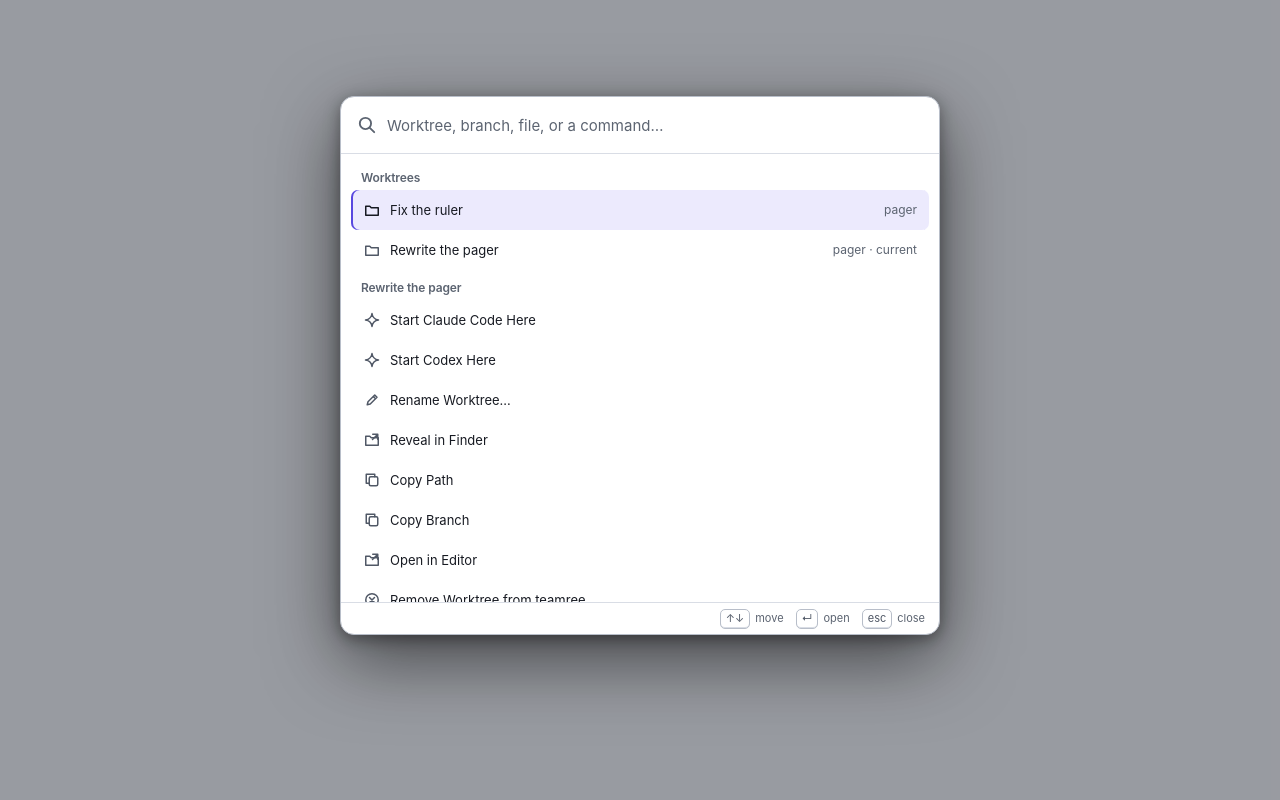
it: the first screen › heads a typed query’s rows by kind, the best match first
The image size is (1280, 800).
Type "copy" into the field at (655, 125), box x1=387 y1=101 x2=923 y2=149
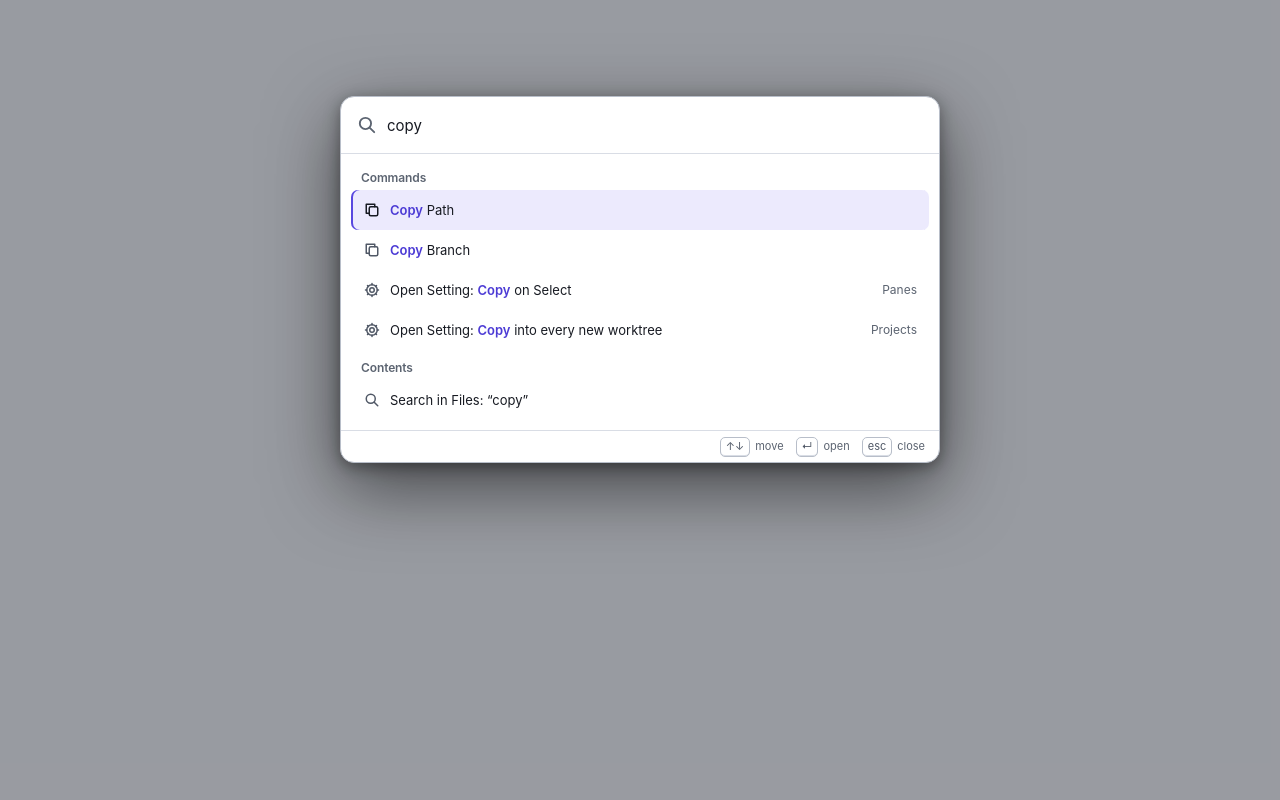
Replace the text in the field with "ruler" at (655, 125), box x1=387 y1=101 x2=923 y2=149
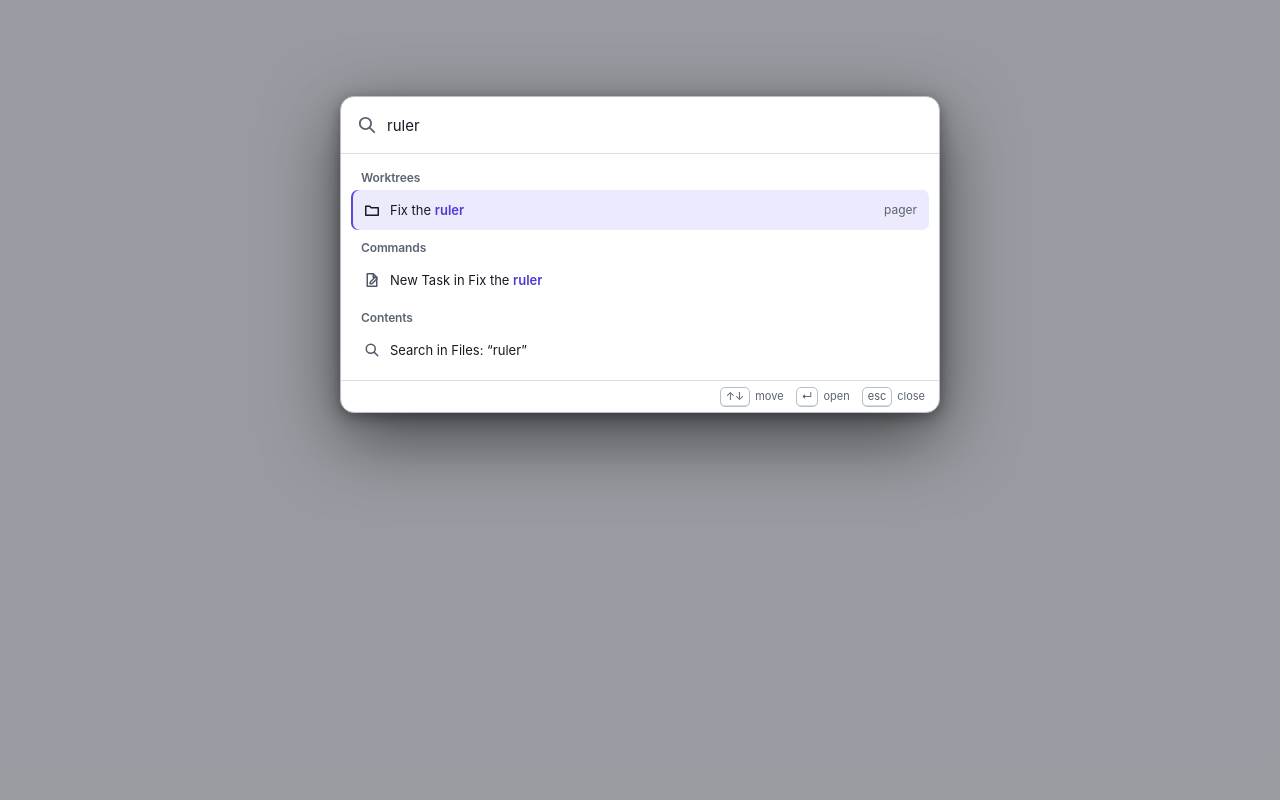
Result: the text "Worktrees" is shown at x1=361 y1=170 x2=420 y2=185
Result: the element showing "Fix the ruler" is shown at x1=390 y1=201 x2=464 y2=219
